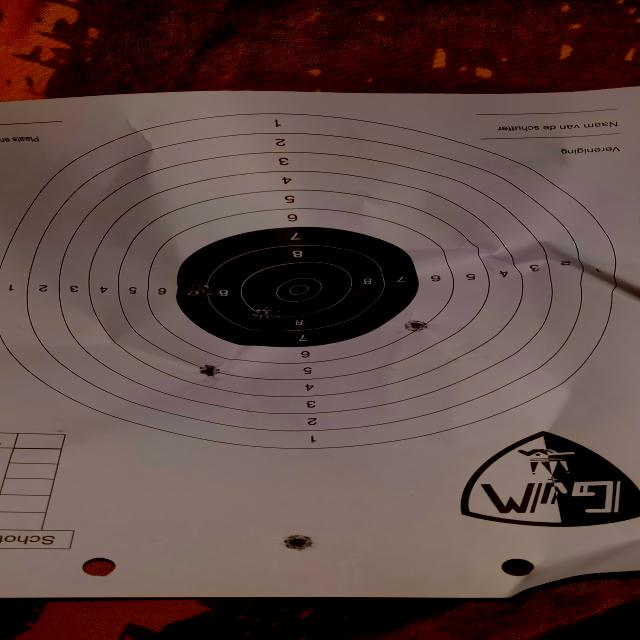0: (280, 533, 312, 552)
5: (193, 364, 228, 382)
7: (402, 319, 431, 333)
8: (186, 281, 218, 298)
9: (246, 306, 280, 320)
Target: (0, 113, 612, 447)
black_contour: (176, 226, 417, 348)
